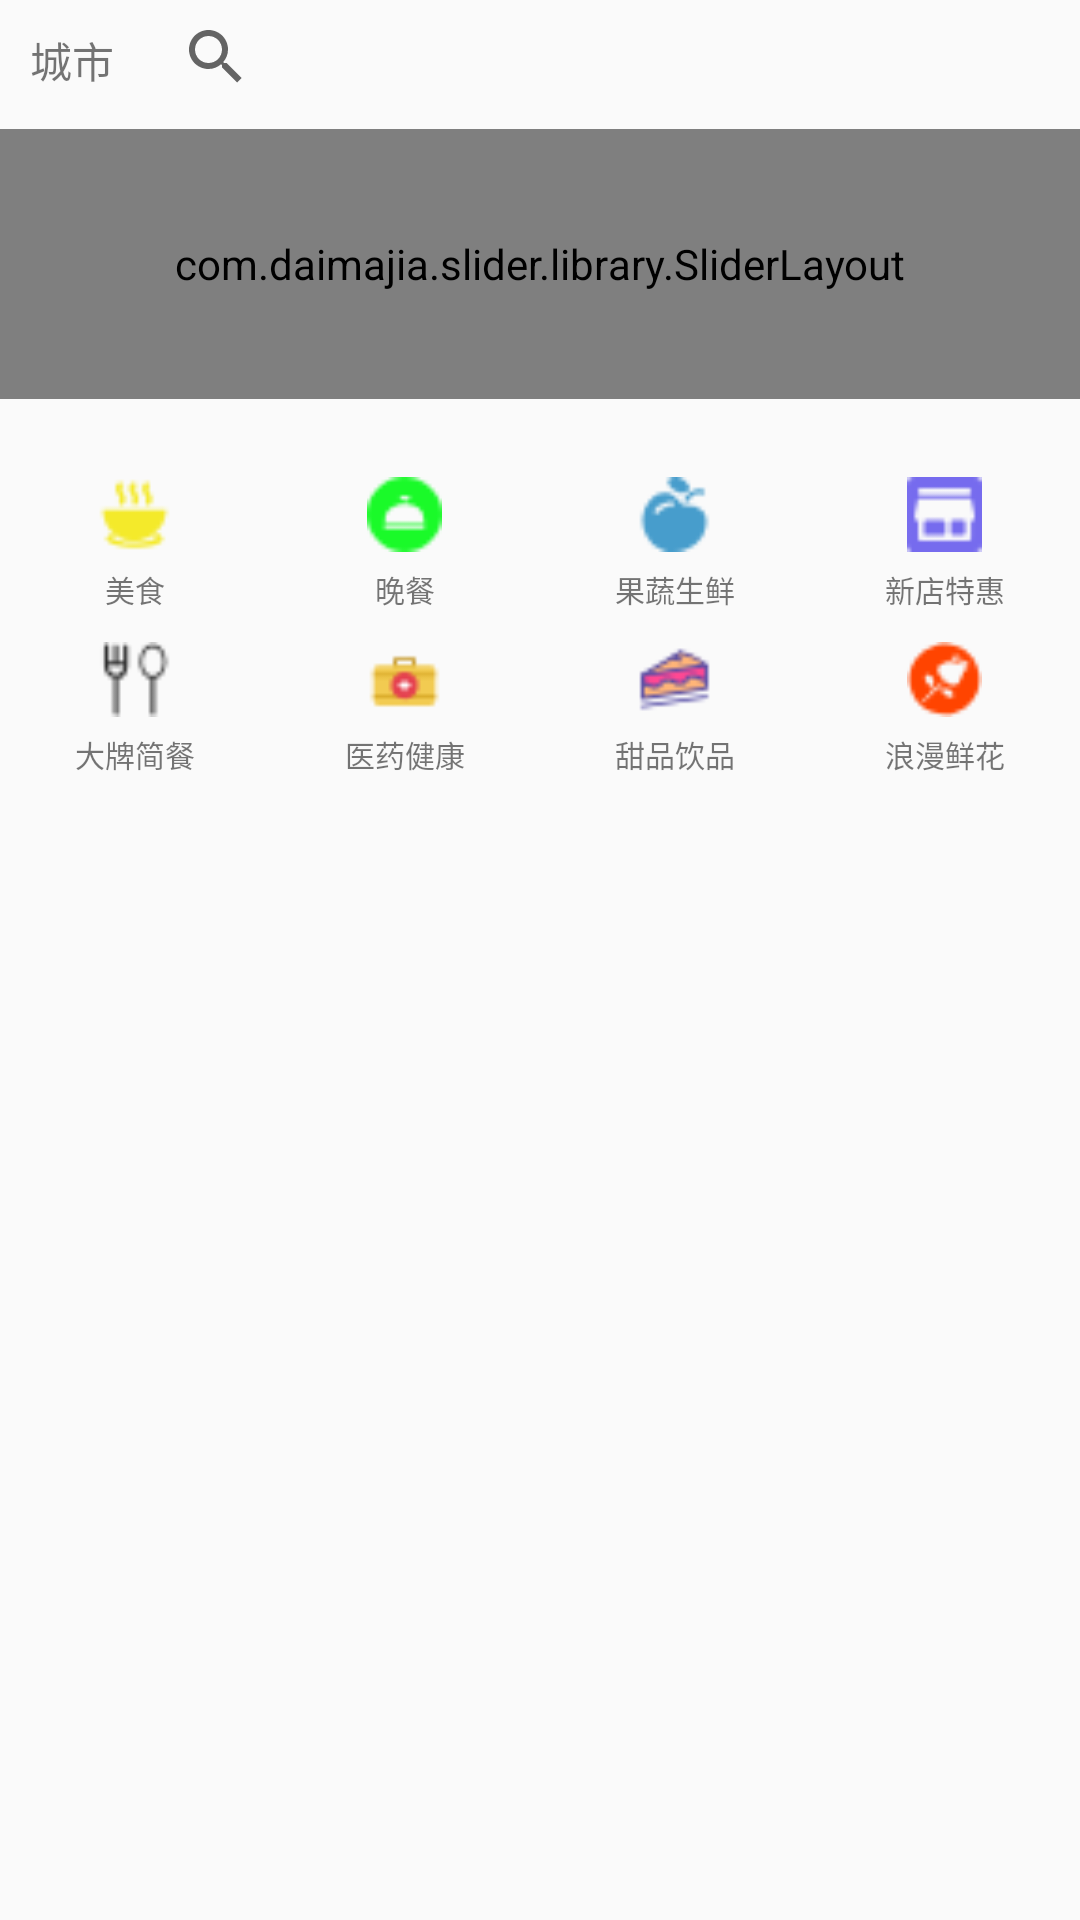

Screen size 1080x1920. Icon name, then its box in pixels as (x1, y1, x2, y2):
business: (907, 477, 982, 552)
